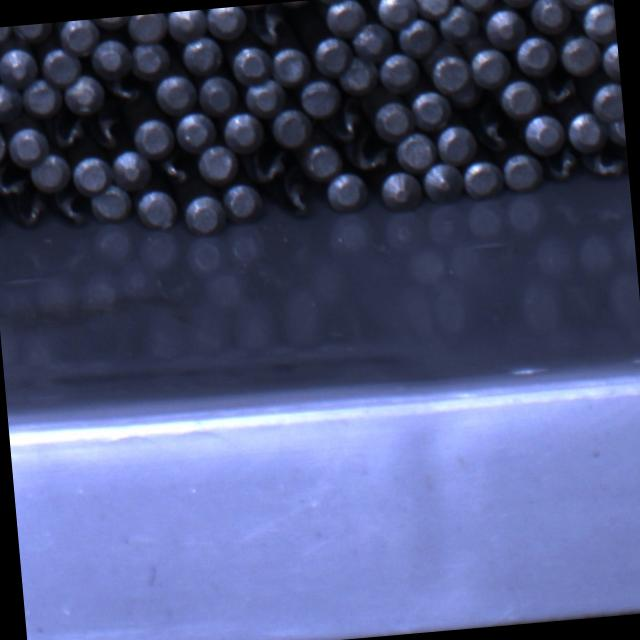tool: (480, 5, 526, 50), (513, 32, 558, 76), (522, 112, 566, 156), (378, 168, 422, 212), (392, 130, 436, 173), (558, 33, 602, 76), (6, 122, 49, 166), (90, 36, 134, 79), (325, 168, 368, 212), (242, 77, 288, 118), (21, 76, 64, 119), (153, 72, 196, 115), (29, 152, 73, 194), (222, 108, 264, 152), (468, 46, 510, 90), (498, 76, 542, 118), (410, 87, 452, 131), (300, 140, 344, 182), (110, 148, 152, 192), (378, 49, 420, 92), (299, 76, 342, 118), (63, 72, 106, 114), (175, 108, 217, 151), (132, 115, 174, 158), (395, 16, 438, 58), (566, 110, 608, 153), (180, 34, 223, 76), (136, 187, 178, 230), (222, 179, 264, 222), (422, 160, 464, 203), (90, 182, 134, 223), (269, 105, 311, 147), (434, 122, 476, 164), (196, 142, 238, 184), (270, 44, 312, 86), (198, 72, 240, 114), (182, 190, 224, 232), (460, 157, 502, 199), (336, 54, 378, 96), (230, 42, 272, 84), (429, 51, 472, 92), (350, 20, 394, 60), (436, 4, 480, 44), (70, 154, 112, 195), (501, 150, 543, 191), (40, 44, 82, 85), (372, 100, 413, 142), (0, 44, 38, 89), (56, 18, 100, 56), (130, 40, 171, 80), (311, 34, 351, 74), (323, 0, 367, 36), (528, 0, 572, 34), (205, 6, 248, 40), (581, 0, 616, 41), (590, 82, 624, 122), (126, 12, 168, 44), (166, 9, 208, 41), (373, 0, 416, 28), (0, 80, 22, 123), (13, 22, 55, 44), (600, 40, 620, 81), (414, 0, 455, 19), (607, 114, 626, 147), (90, 15, 132, 29), (455, 0, 498, 10), (557, 0, 601, 8), (0, 121, 7, 163), (498, 0, 539, 7), (0, 26, 11, 45)
tool_b: (248, 2, 292, 46), (346, 134, 393, 175), (476, 113, 520, 154), (581, 144, 627, 182), (275, 176, 316, 218), (246, 148, 290, 186), (51, 189, 92, 229), (10, 192, 50, 232), (328, 105, 367, 144), (90, 111, 128, 150), (103, 72, 144, 108), (542, 146, 580, 184), (540, 74, 580, 110), (154, 152, 193, 188), (448, 84, 491, 116), (48, 116, 87, 150), (0, 162, 30, 200)
